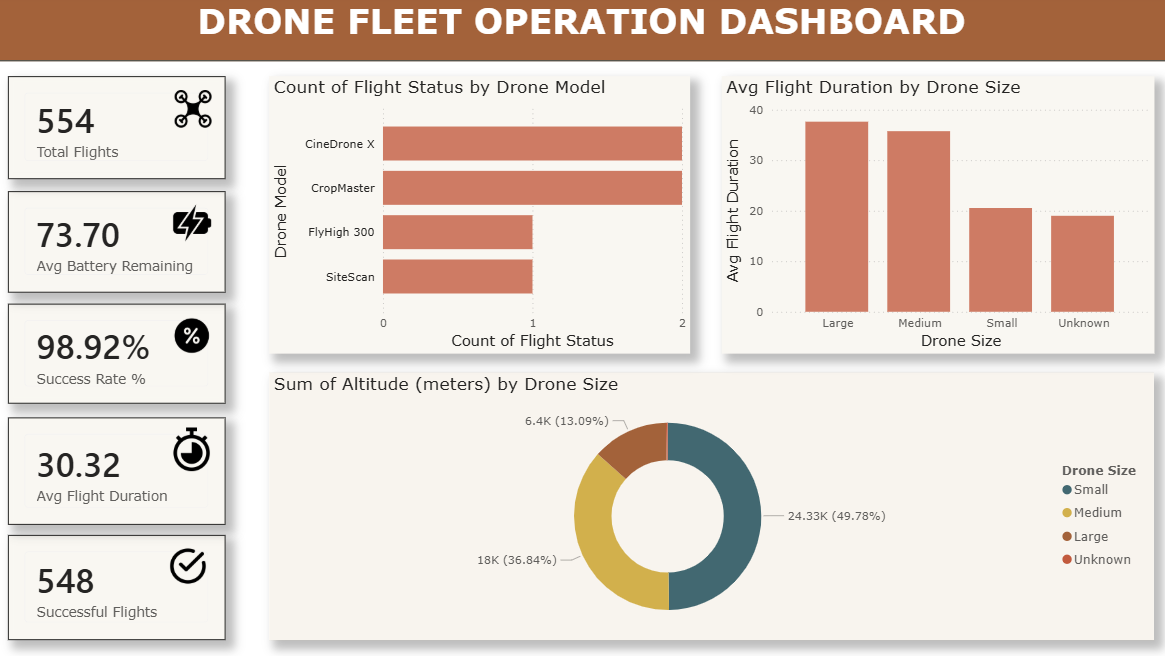

This screenshot's page, from the dashboard's own definition file:
{"tool":"powerbi","page":{"name":"Page 1","canvas":[1280,720],"ordinal":0},"visuals":[{"type":"cardVisual","fields":{"Data":["DroneFlights.Successful Flights"]},"box":[898.2,134.7,303.2,126.3],"z":0},{"type":"cardVisual","fields":{"Data":["DroneFlights.Success Rate %"]},"box":[87,536.1,269.5,140.4],"z":1000},{"type":"cardVisual","fields":{"Data":["DroneFlights.Avg Flight Duration"]},"box":[477.2,134.7,294.7,126.3],"z":2000},{"type":"cardVisual","fields":{"Data":["DroneFlights.Avg Battery Remaining"]},"box":[87,329.8,269.5,144.6],"z":3000},{"type":"clusteredBarChart","fields":{"Category":["DroneFlights.Drone Model"],"Y":["CountNonNull(DroneFlights.Flight Status)"]},"box":[408.4,297.5,400,378.9],"z":4000},{"type":"clusteredColumnChart","fields":{"Category":["DroneFlights.Drone Size"],"Y":["DroneFlights.Avg Flight Duration"]},"box":[835.1,297.5,412.6,378.9],"z":5000},{"type":"image","box":[1101.8,134.7,89.8,103.9],"z":7000},{"type":"image","box":[268.1,342.5,77.2,73],"z":8000},{"type":"image","box":[275.1,548.8,70.2,70.2],"z":9000},{"type":"image","box":[666.7,141.8,88.4,89.8],"z":10000},{"type":"textbox","box":[290.5,11.2,843.5,77.2],"z":11000},{"type":"cardVisual","fields":{"Data":["DroneFlights.Total Flights"]},"box":[84.2,136.1,298.9,124.9],"z":12000},{"type":"image","box":[256.8,141.8,126.3,89.8],"z":12001}]}

Visuals, with their boxes in screenshot pixels (x1, y1, x2, y2), scaled from the page's 1280x720 canvas onto the 1165x656 screenshot:
cardVisual - DroneFlights.Successful Flights: BBox(818, 123, 1093, 238)
cardVisual - DroneFlights.Success Rate %: BBox(79, 488, 324, 616)
cardVisual - DroneFlights.Avg Flight Duration: BBox(434, 123, 703, 238)
cardVisual - DroneFlights.Avg Battery Remaining: BBox(79, 300, 324, 432)
clusteredBarChart - DroneFlights.Drone Model x CountNonNull(DroneFlights.Flight Status): BBox(372, 271, 736, 616)
clusteredColumnChart - DroneFlights.Drone Size x DroneFlights.Avg Flight Duration: BBox(760, 271, 1136, 616)
image: BBox(1003, 123, 1085, 217)
image: BBox(244, 312, 314, 379)
image: BBox(250, 500, 314, 564)
image: BBox(607, 129, 687, 211)
textbox: BBox(264, 10, 1032, 81)
cardVisual - DroneFlights.Total Flights: BBox(77, 124, 349, 238)
image: BBox(234, 129, 349, 211)
